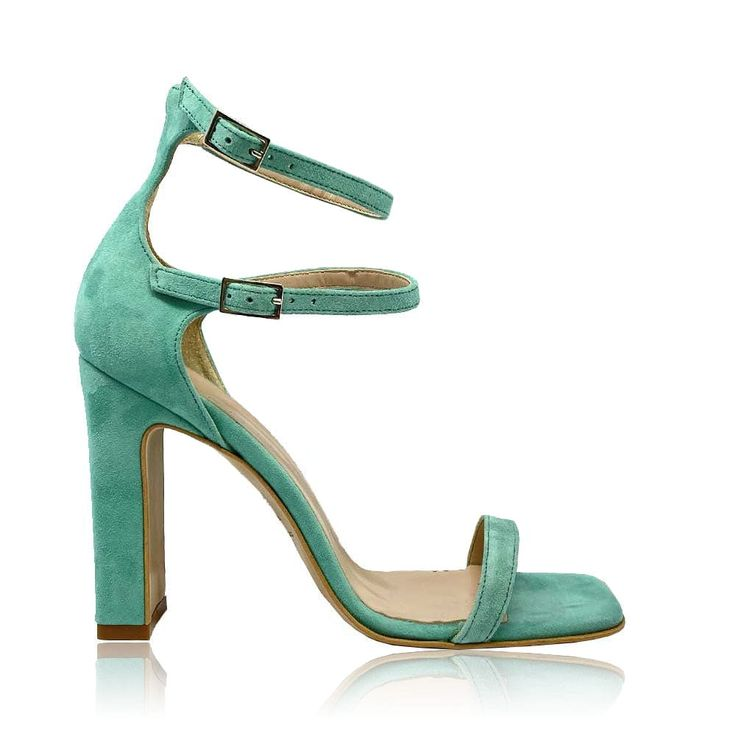gamuza: (76, 78, 627, 641)
